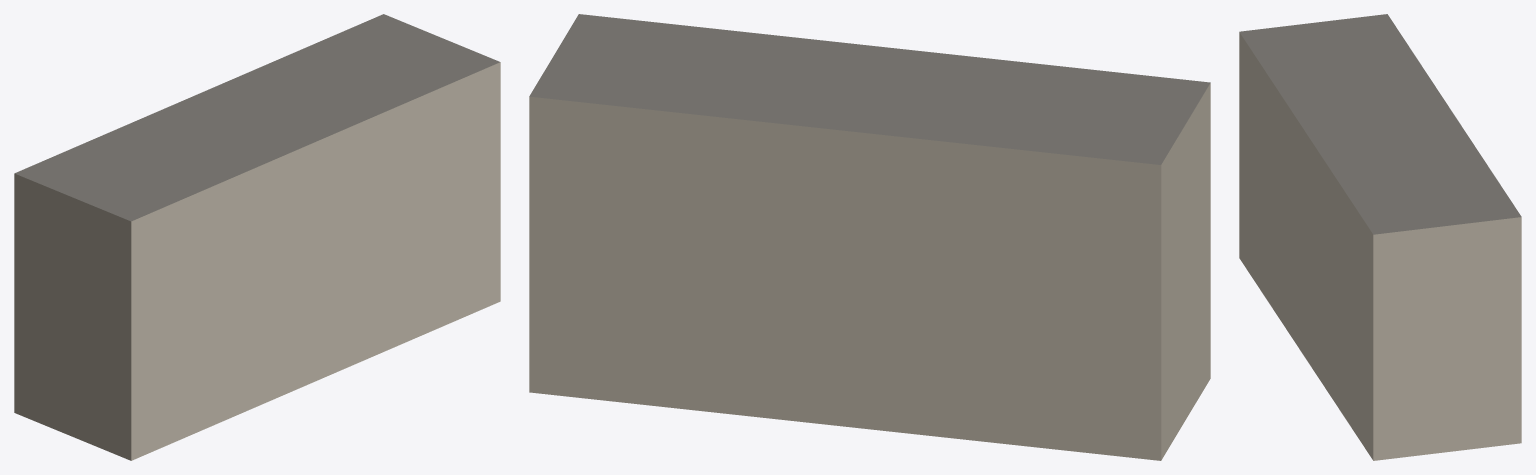
The picture shows the model from 3 angles, left to right: view 1: azimuth 30°, elevation 25°; view 2: azimuth 150°, elevation 25°; view 3: azimuth 270°, elevation 25°; orthographic projection. The views are drawn at different scales.
Visible parts, largest first — view 1: HP-w378107217; view 2: HP-w378107217; view 3: HP-w378107217.
Boxes of the visible parts, x1,y1,x2,y2 form: HP-w378107217: (14, 14, 500, 460); HP-w378107217: (529, 14, 1210, 460); HP-w378107217: (1239, 14, 1521, 460).
Bounding box in the file's own units: 37.67 × 18 × 20.38.
